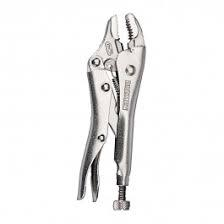pliers: (76, 11, 146, 210)
